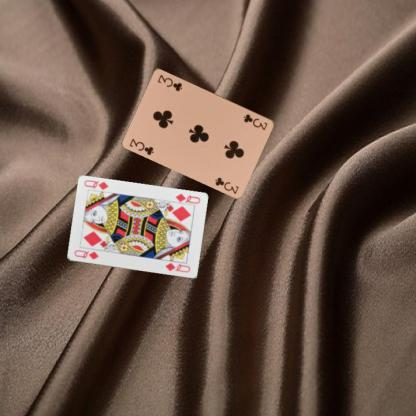3c: (127, 135, 155, 156), (241, 111, 269, 131)
Qd: (171, 191, 201, 207), (71, 247, 99, 261)
